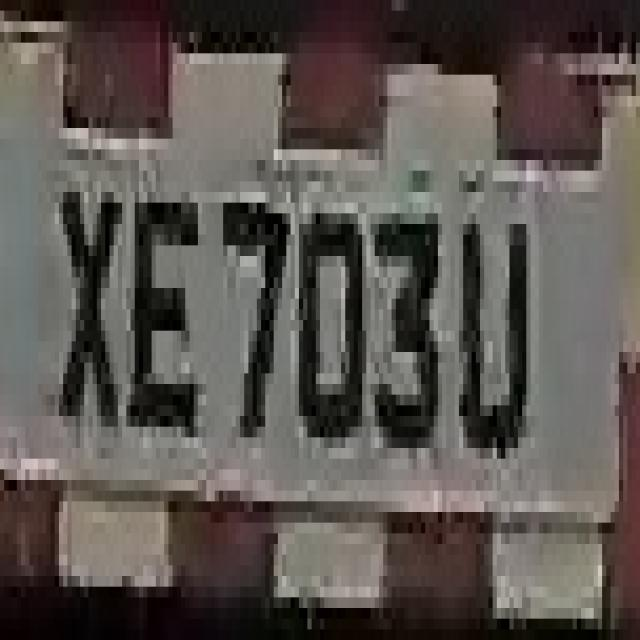0: (282, 203, 366, 480)
3: (366, 192, 438, 459)
7: (206, 160, 286, 480)
E: (122, 160, 206, 459)
U: (446, 192, 543, 469)
X: (51, 160, 122, 448)
